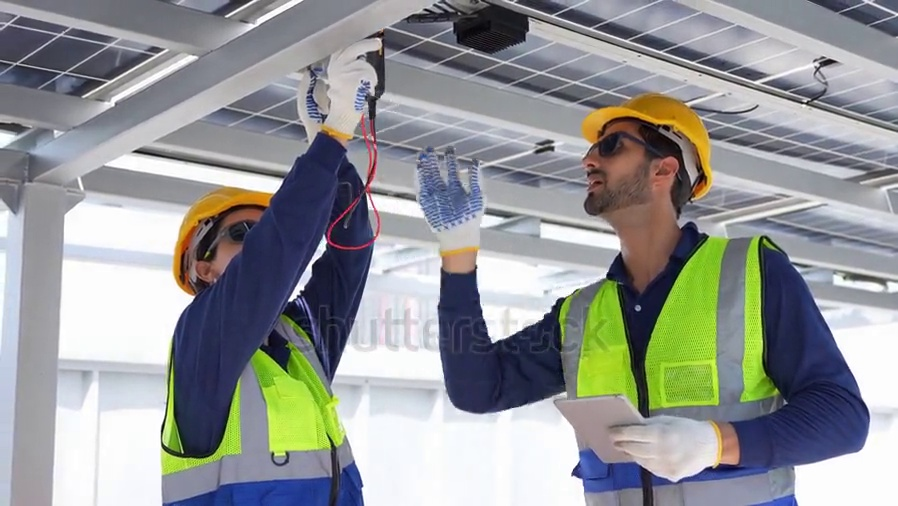helmet: (581, 95, 714, 206), (173, 186, 279, 299)
person: (416, 95, 872, 506), (159, 49, 377, 506)
